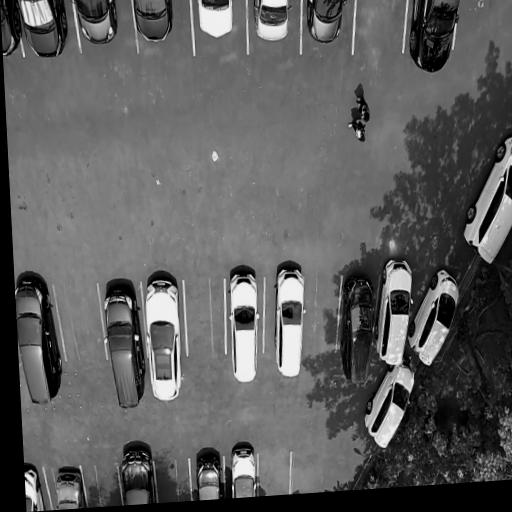Car: (461, 126, 512, 269), (14, 274, 67, 409), (404, 263, 467, 375), (101, 276, 149, 415), (141, 270, 186, 411), (361, 357, 423, 457), (224, 265, 265, 388), (268, 262, 310, 382), (373, 260, 418, 372), (336, 273, 379, 389), (406, 0, 462, 77), (19, 0, 71, 65), (72, 0, 123, 49), (118, 441, 156, 506), (129, 0, 176, 47), (304, 0, 350, 47), (250, 0, 295, 46), (194, 0, 239, 40), (228, 442, 260, 498), (51, 464, 88, 510), (194, 449, 225, 501), (0, 0, 25, 62), (24, 465, 47, 512)
Space Available: (54, 285, 107, 363), (184, 280, 227, 357), (353, 0, 409, 57), (302, 278, 341, 358), (80, 465, 123, 508), (155, 460, 192, 503), (258, 454, 292, 496)
